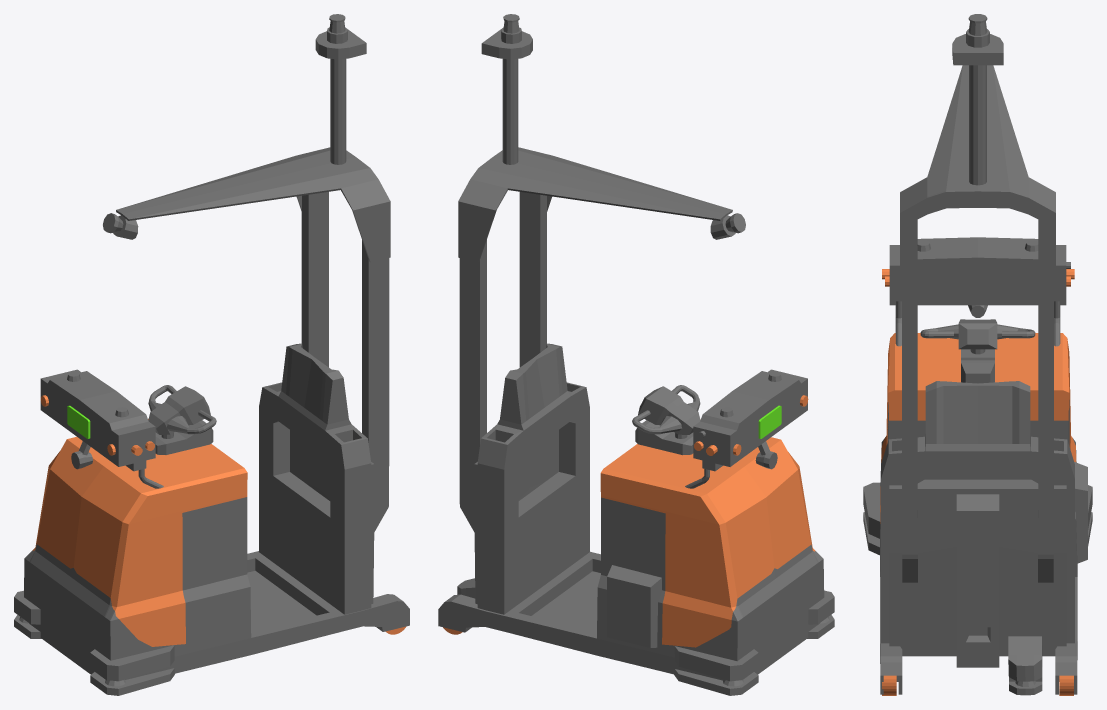
The model's file is TAE low poly.fbx.
The picture shows the model from 3 angles, left to right: view 1: azimuth 30°, elevation 25°; view 2: azimuth 150°, elevation 25°; view 3: azimuth 270°, elevation 25°; orthographic projection. The views are drawn at different scales.
Visible parts, largest first — view 1: mainbody, orange, seatback, frontmass, roof, controlbox, sensortop, sensor.001, Cube.003, sensor, yoke, Cylinder.002 (+1 smaller); view 2: orange, mainbody, seatback, frontmass, roof, controlbox, chargepad, sensortop, sensor.001, Cube.003, sensor, yoke (+2 smaller); view 3: frontmass, seatback, roof, controlbox, tow, orange, mainbody, sensortop, sensorback, Cube.003, chargepad, yoke (+6 smaller).
Boxes of the visible parts, bbox=[...] form: mainbody: bbox=[24, 497, 409, 679]; orange: bbox=[32, 419, 247, 646]; seatback: bbox=[259, 343, 371, 614]; frontmass: bbox=[290, 192, 389, 603]; roof: bbox=[116, 147, 390, 262]; controlbox: bbox=[40, 369, 155, 471]; sensortop: bbox=[315, 29, 366, 164]; sensor.001: bbox=[14, 590, 174, 681]; Cube.003: bbox=[148, 386, 210, 434]; sensor: bbox=[14, 615, 174, 695]; yoke: bbox=[155, 420, 213, 454]; Cylinder.002: bbox=[148, 385, 216, 434]; orange: bbox=[600, 437, 815, 647]; mainbody: bbox=[438, 497, 824, 680]; seatback: bbox=[477, 343, 589, 614]; frontmass: bbox=[459, 192, 558, 604]; roof: bbox=[458, 147, 732, 262]; controlbox: bbox=[693, 369, 807, 471]; chargepad: bbox=[607, 565, 661, 647]; sensortop: bbox=[481, 29, 532, 164]; sensor.001: bbox=[674, 590, 834, 681]; Cube.003: bbox=[638, 386, 700, 434]; sensor: bbox=[674, 614, 834, 695]; yoke: bbox=[635, 420, 693, 455]; frontmass: bbox=[889, 219, 1066, 649]; seatback: bbox=[881, 381, 1074, 643]; roof: bbox=[900, 65, 1055, 276]; controlbox: bbox=[889, 237, 1066, 305]; tow: bbox=[956, 494, 999, 667]; orange: bbox=[880, 333, 1076, 523]; mainbody: bbox=[880, 400, 1077, 694]; sensortop: bbox=[952, 34, 1003, 185]; sensorback: bbox=[1008, 636, 1042, 695]; Cube.003: bbox=[958, 319, 997, 349]; chargepad: bbox=[1074, 462, 1087, 563]; yoke: bbox=[961, 349, 994, 383].
Bounding box in the file's own units: 162 × 297 × 92.4.
